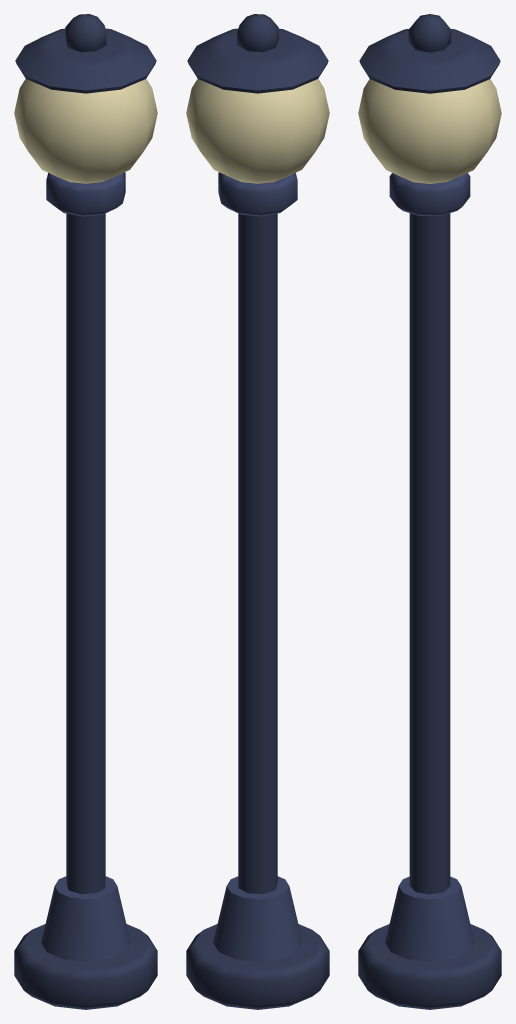
Rendered from block-prop3.glb.
3 views of the same model, side by side, from view 1: azimuth 30°, elevation 25°; view 2: azimuth 150°, elevation 25°; view 3: azimuth 270°, elevation 25° (orthographic).
Visible parts, largest first — view 1: block-prop3; view 2: block-prop3; view 3: block-prop3.
Part boxes in pixels (left/top/right/bottom): block-prop3: left=14, top=14, right=157, bottom=1009; block-prop3: left=186, top=14, right=329, bottom=1009; block-prop3: left=358, top=14, right=501, bottom=1009.
Bounding box in the file's own units: 0.32 × 2.38 × 0.32.
